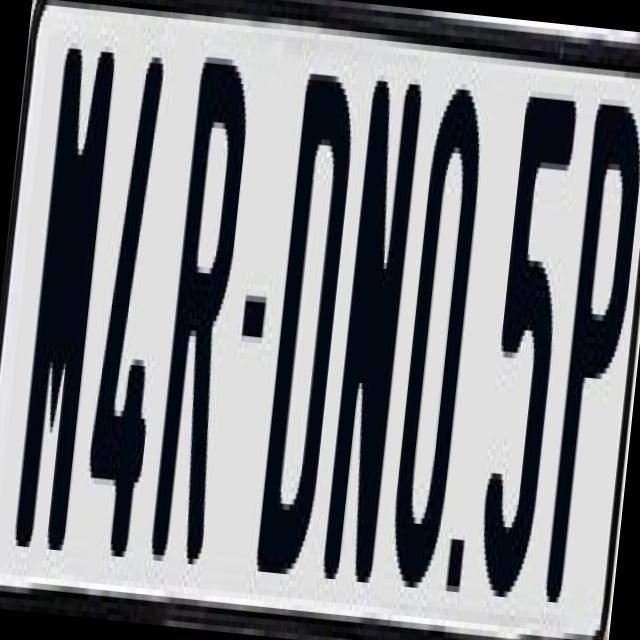0: (386, 75, 491, 584)
4: (77, 48, 186, 569)
5: (474, 85, 580, 600)
D: (256, 56, 366, 560)
M: (9, 30, 114, 562)
N: (320, 68, 429, 572)
P: (542, 103, 638, 611)
R: (147, 39, 262, 583)
